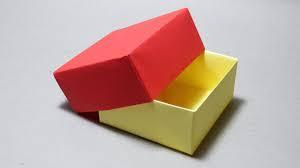box: (51, 7, 238, 155)
